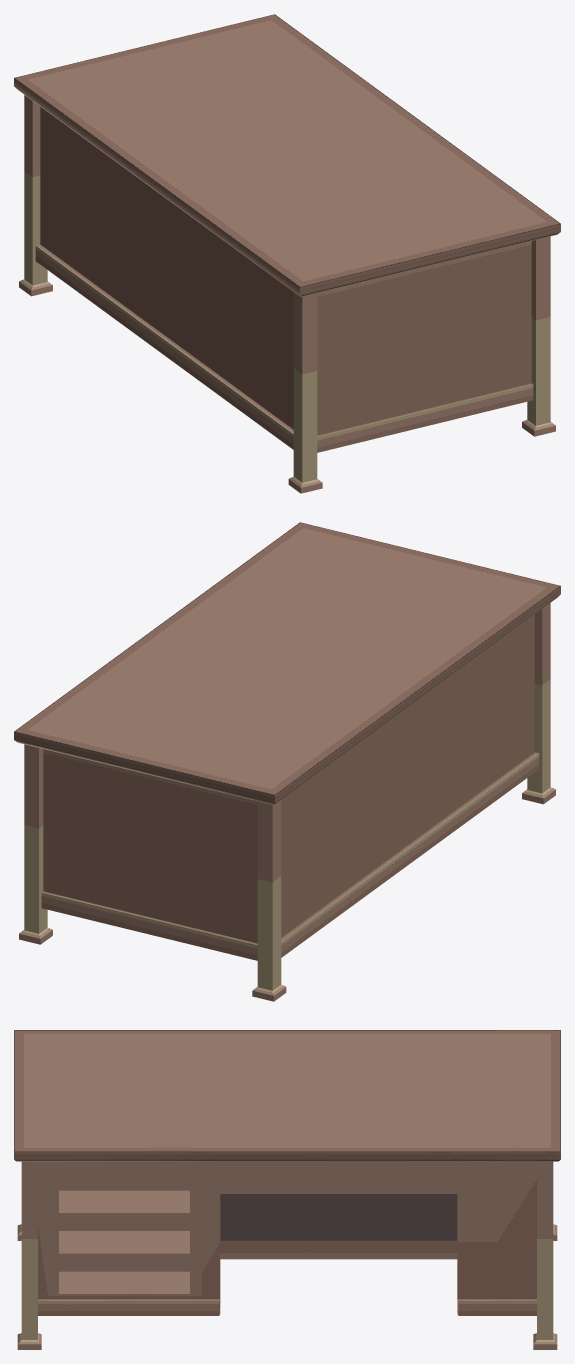
Rendered from escritorio.fbx.
3 renders of one model, top to bottom at view 1: azimuth 30°, elevation 25°; view 2: azimuth 150°, elevation 25°; view 3: azimuth 270°, elevation 25°, orthographic. The views are drawn at different scales.
Parts seen in each view (by area): view 1: escritorio; view 2: escritorio; view 3: escritorio.
Part boxes in pixels (x1=…): escritorio: x1=14, y1=14, x2=560, y2=493; escritorio: x1=14, y1=522, x2=560, y2=1001; escritorio: x1=14, y1=1030, x2=560, y2=1349.
Bounding box in the file's own units: 277 × 211 × 525.
